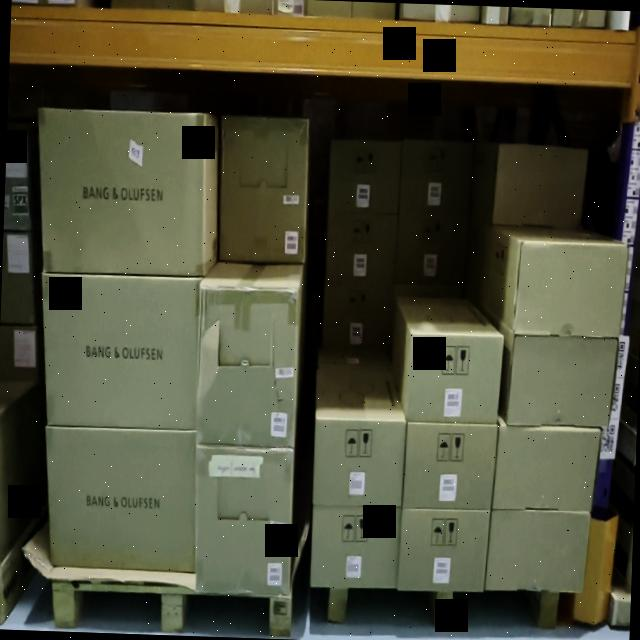box: (37, 113, 201, 272), (43, 275, 196, 434), (47, 421, 197, 565), (196, 289, 295, 443), (218, 116, 310, 254), (194, 450, 292, 576), (516, 239, 622, 328), (511, 337, 615, 422), (404, 334, 503, 416), (500, 426, 599, 507), (308, 504, 397, 591), (403, 422, 497, 504), (314, 417, 404, 502), (490, 512, 582, 592), (399, 506, 488, 584), (325, 280, 395, 356), (328, 210, 398, 280), (330, 138, 398, 210), (400, 221, 463, 287), (402, 148, 471, 208)
